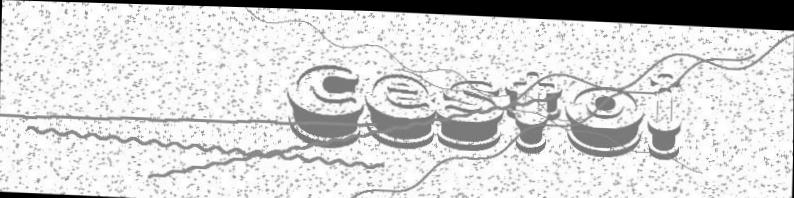c: (272, 53, 369, 153)
e: (364, 61, 440, 151)
i: (637, 64, 693, 163)
o: (562, 77, 649, 155)
s: (432, 67, 507, 155)
t: (502, 62, 561, 155)
